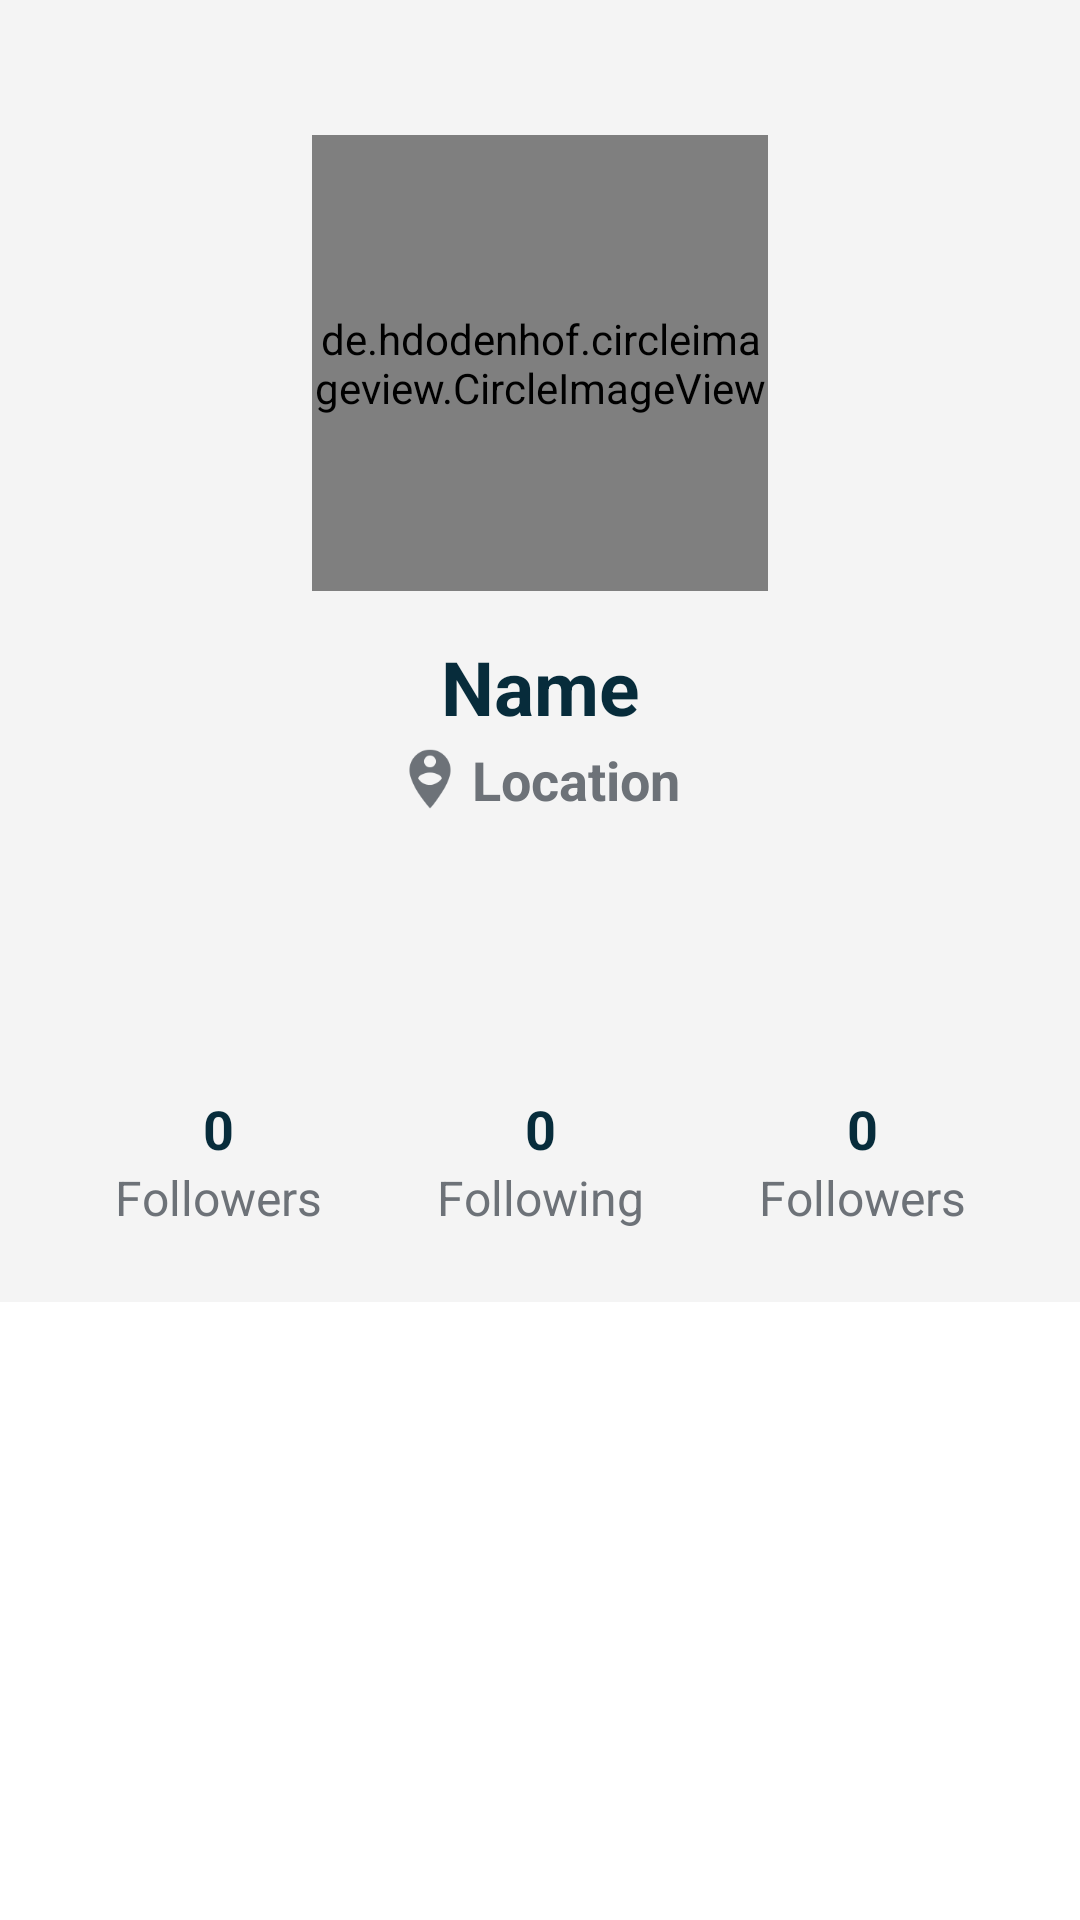

Where icons sit on this 1080px×1920px app screen, as (x1, y1, x2, y2):
person pin circle: (409, 750, 451, 808)
